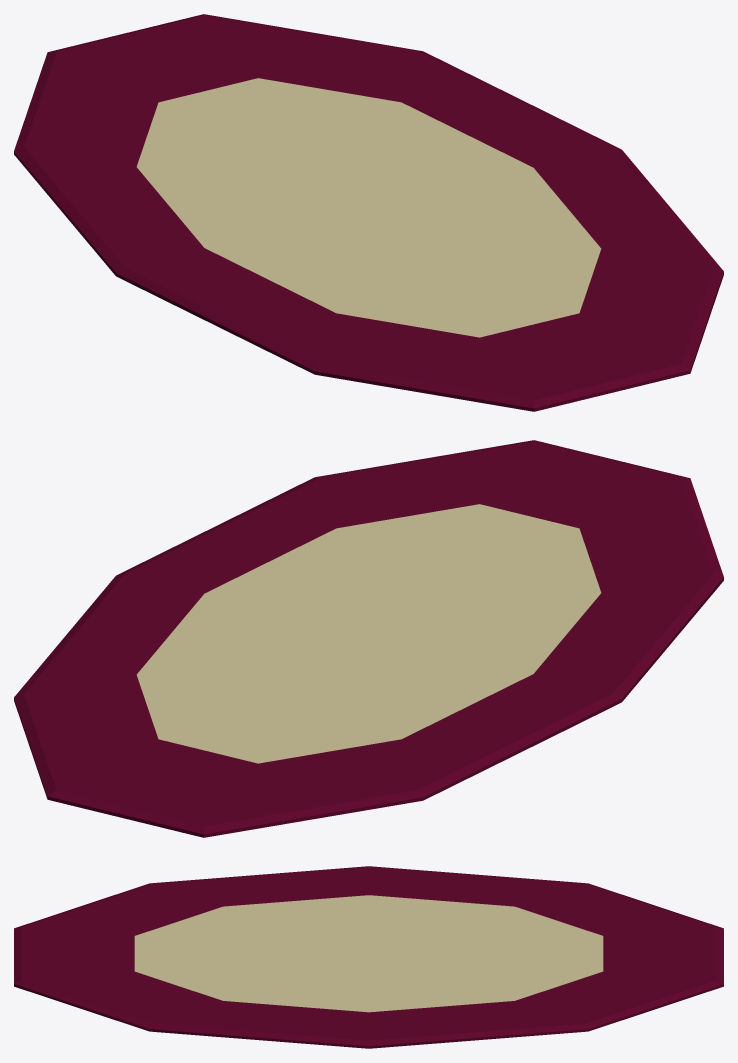
The model's file is geo_kitchenRug_02.fbx.
3 renders of one model, top to bottom at view 1: azimuth 30°, elevation 25°; view 2: azimuth 150°, elevation 25°; view 3: azimuth 270°, elevation 25°, orthographic. The views are drawn at different scales.
Visible parts, largest first — view 1: pCylinder1; view 2: pCylinder1; view 3: pCylinder1.
Boxes of the visible parts, x1,y1,x2,y2 form: pCylinder1: (14,14,723,411); pCylinder1: (14,440,723,837); pCylinder1: (14,866,723,1048).
Size of the model in its own units: 227 by 2.93 by 378.
